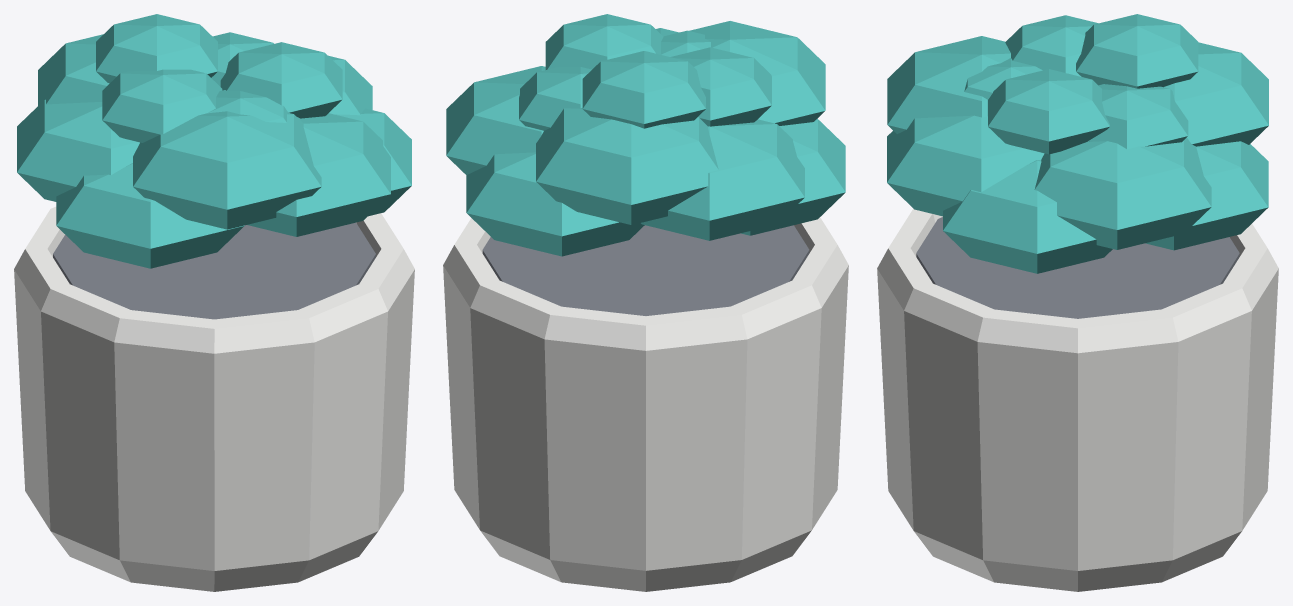
File: medical-23641.glb
3 views of the same model, side by side, from view 1: azimuth 30°, elevation 25°; view 2: azimuth 150°, elevation 25°; view 3: azimuth 270°, elevation 25° (orthographic).
Parts seen in each view (by area): view 1: planter; view 2: planter; view 3: planter.
Boxes of the visible parts, x1,y1,x2,y2 form: planter: [14, 14, 414, 591]; planter: [443, 14, 848, 591]; planter: [877, 14, 1278, 591].
Bounding box in the file's own units: 0.7376 × 0.9521 × 0.72.
